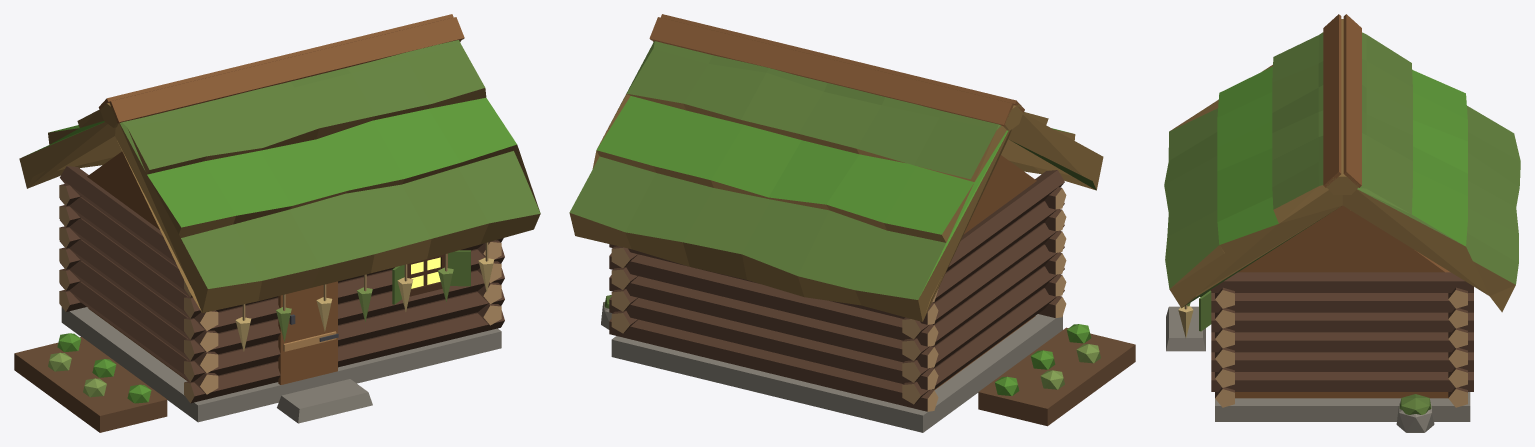
Rendered from Dorf_Kraeuterhuette.fbx.
The picture shows the model from 3 angles, left to right: view 1: azimuth 30°, elevation 25°; view 2: azimuth 150°, elevation 25°; view 3: azimuth 270°, elevation 25°; orthographic projection. The views are drawn at different scales.
Visible parts, largest first — view 1: Dorf_Kraeuterhuette; view 2: Dorf_Kraeuterhuette; view 3: Dorf_Kraeuterhuette.
Boxes of the visible parts, left/top/right/bottom form: Dorf_Kraeuterhuette: left=14, top=14, right=540, bottom=432; Dorf_Kraeuterhuette: left=569, top=14, right=1135, bottom=432; Dorf_Kraeuterhuette: left=1164, top=14, right=1520, bottom=432.
Size of the model in its own units: 6.3 by 3.98 by 4.89.
